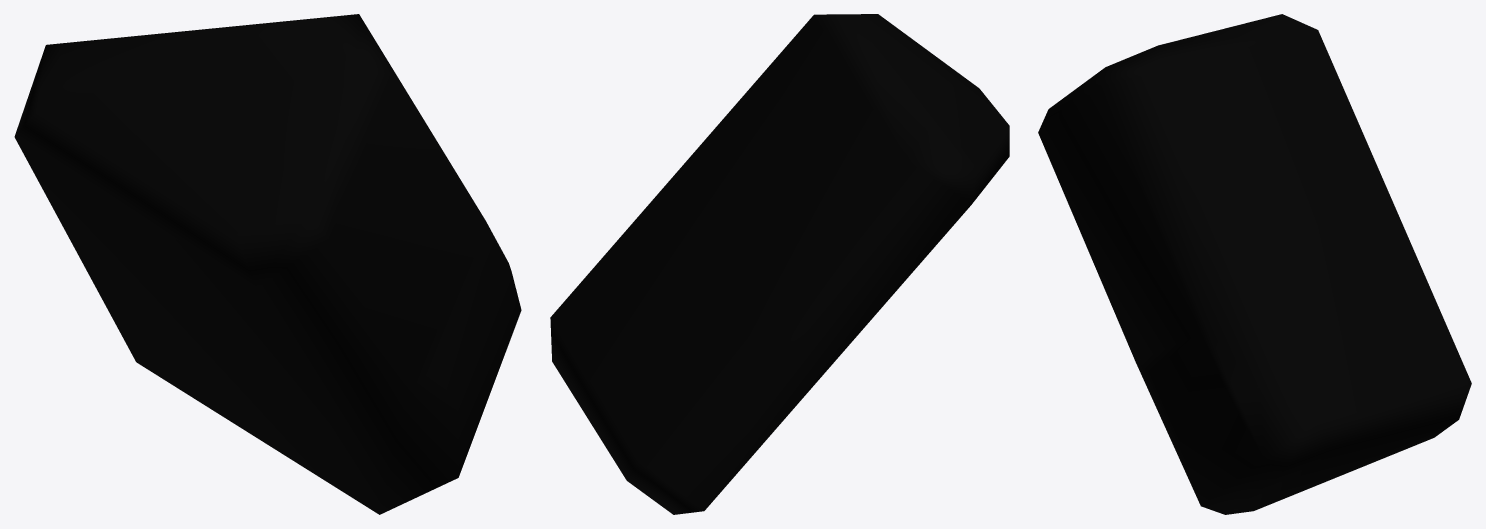
File: hgn_collectable_relic_01.glb
The picture shows the model from 3 angles, left to right: view 1: azimuth 30°, elevation 25°; view 2: azimuth 150°, elevation 25°; view 3: azimuth 270°, elevation 25°; orthographic projection. The views are drawn at different scales.
Parts seen in each view (by area): view 1: container_loot_01; view 2: container_loot_01; view 3: container_loot_01.
Part boxes in pixels (x1,y1,x2,y2): container_loot_01: [14, 14, 521, 514]; container_loot_01: [550, 14, 1009, 514]; container_loot_01: [1038, 14, 1471, 514].
Size of the model in its own units: 0.9788 by 1.04 by 0.9669.
1 material, 1 textured.
